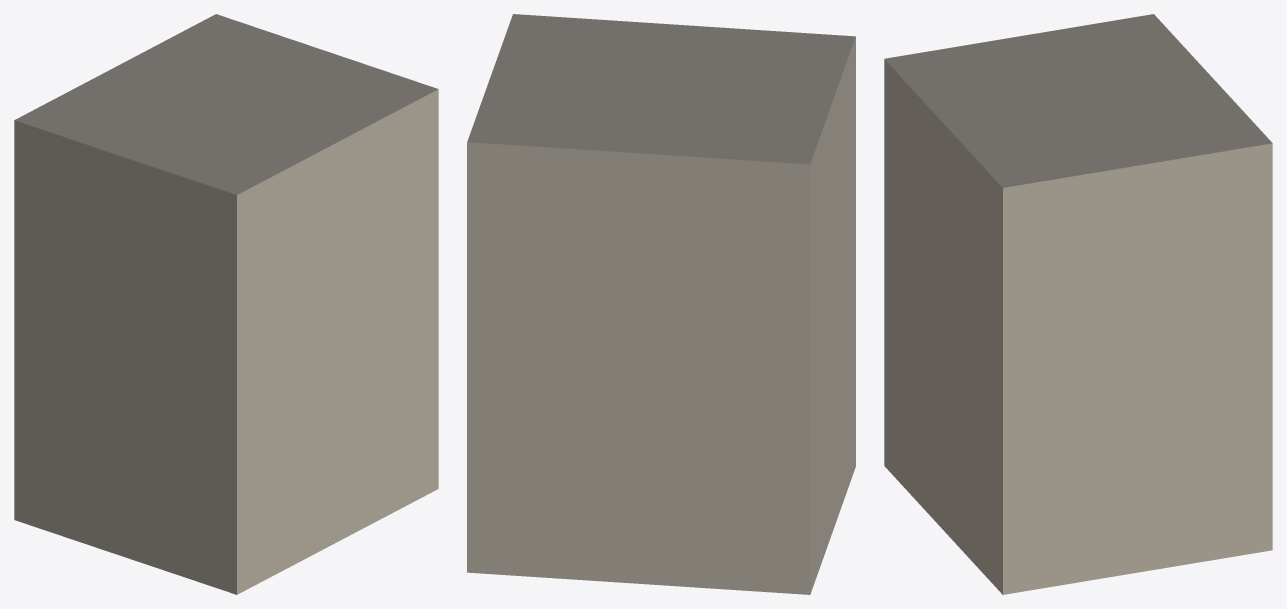
3 renders of one model, left to right at view 1: azimuth 30°, elevation 25°; view 2: azimuth 150°, elevation 25°; view 3: azimuth 270°, elevation 25°, orthographic. The views are drawn at different scales.
Parts seen in each view (by area): view 1: HP-w505650481; view 2: HP-w505650481; view 3: HP-w505650481.
Part boxes in pixels (x1,y1,x2,y2): HP-w505650481: [14, 14, 438, 594]; HP-w505650481: [467, 14, 855, 594]; HP-w505650481: [884, 14, 1272, 594].
Size of the model in its own units: 16.5 by 18 by 15.58.
